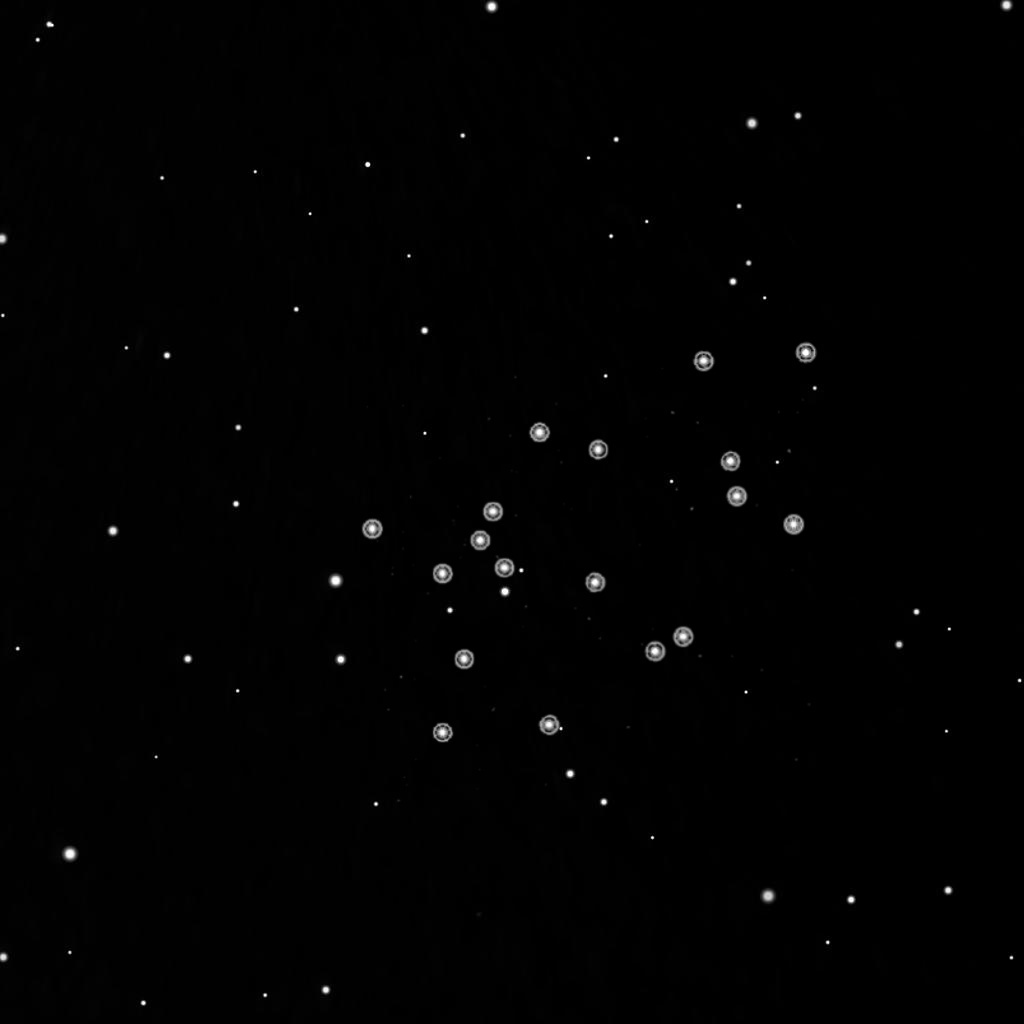canis_major: (424, 418, 619, 589)
